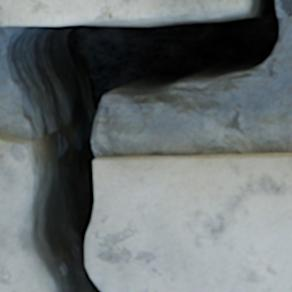brick: (0, 0, 249, 25)
broken_brick: (86, 152, 291, 291), (0, 134, 51, 291)
crack: (2, 0, 290, 291)
